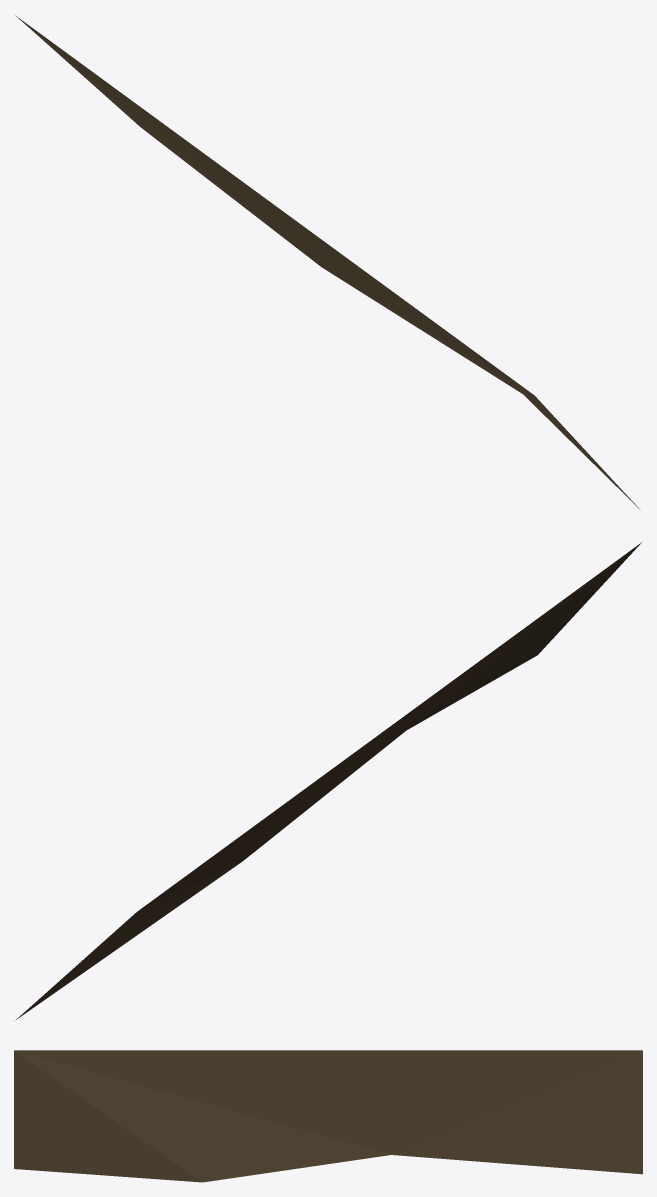
File: mud-bank-far.glb
3 views of the same model, one above another, from view 1: azimuth 30°, elevation 25°; view 2: azimuth 150°, elevation 25°; view 3: azimuth 270°, elevation 25° (orthographic). The views are drawn at different scales.
Parts seen in each view (by area): view 1: mud-bank-far; view 2: mud-bank-far; view 3: mud-bank-far.
Boxes of the visible parts, <box> form: mud-bank-far: <box>15,15,639,509</box>; mud-bank-far: <box>16,542,641,1019</box>; mud-bank-far: <box>14,1050,642,1182</box>.
Size of the model in its own units: 1.6 by 1.57 by 10.
